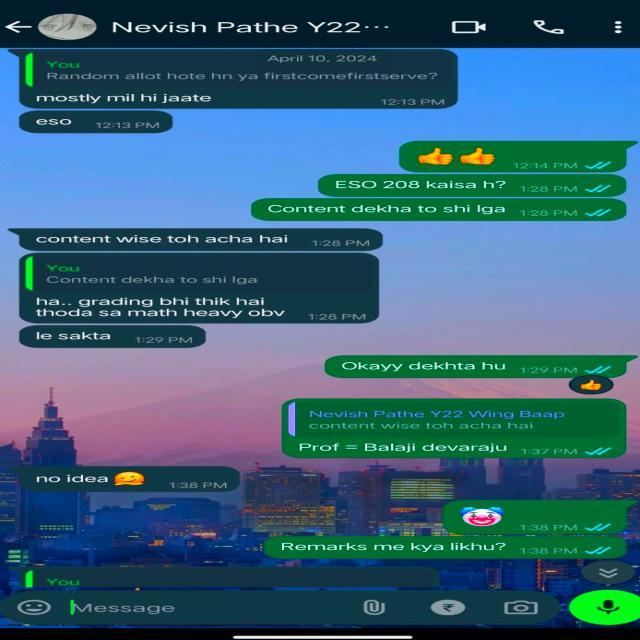scam: (16, 254, 381, 324), (18, 226, 380, 252), (19, 89, 458, 109), (16, 468, 242, 494), (18, 324, 210, 348), (19, 110, 176, 134)
